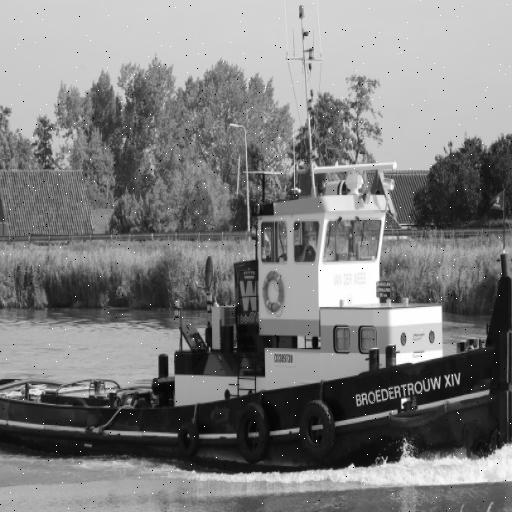tugboat: (1, 151, 512, 493)
